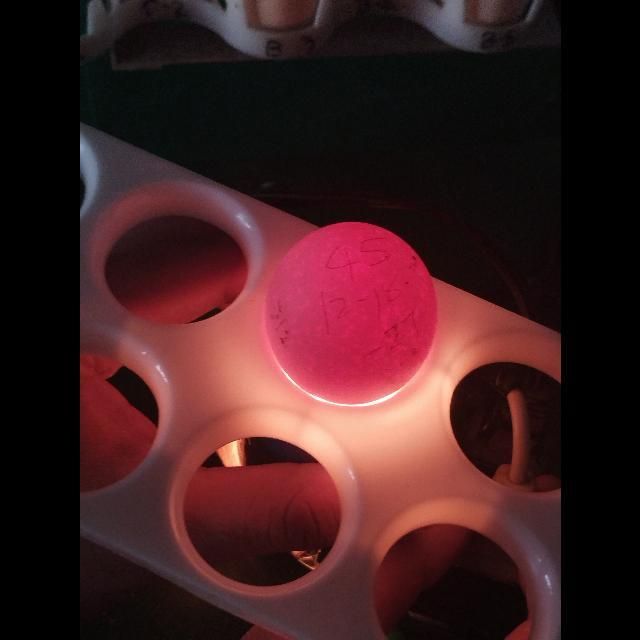Infertile: (262, 217, 440, 409)
